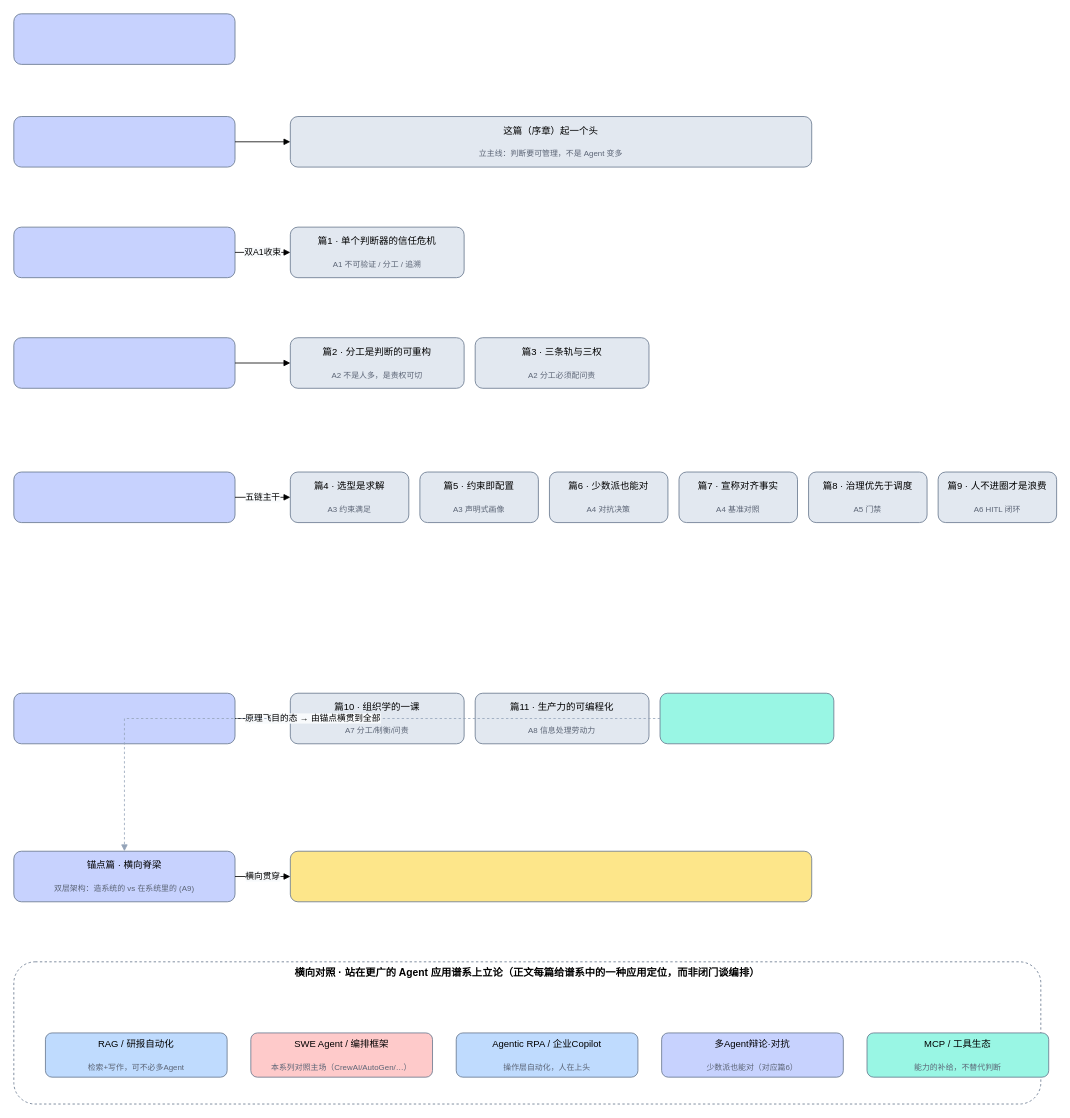
Some shapes in this 1070 by 1118 pixel diagram are drawn without their labels. Here are the shapes that lost their labels. From the top down, the centre of each, then its label:
At pixel 124 38: "Multi-Agent 主线 多 Agent = 判断的可分工 · 可校验 · 可审计".
At pixel 124 141: "序章 · 本篇 一个不能自我证明的判断器 (A1)".
At pixel 124 252: "第一幕 · 为什么来 熵从哪来：单判断器失效".
At pixel 124 362: "第二幕 · 是什么 分工的本质：责权可切 + 配问责".
At pixel 124 497: "第三幕 · 怎么用 选型/编排/校验/治理/HITL 五链".
At pixel 124 718: "第四幕 · 到哪去 抽象组织学原理 → 推到行业社会".
At pixel 746 718: "篇12 · 熵的账本 A8 计量的生产力（目的态）".
At pixel 551 876: "篇13 · 两层 Agent：造系统的，与在系统里的 A9 元层(造/验) vs 产品层(干/审)，k1-k4 记忆总线横向贯穿全部正文".
